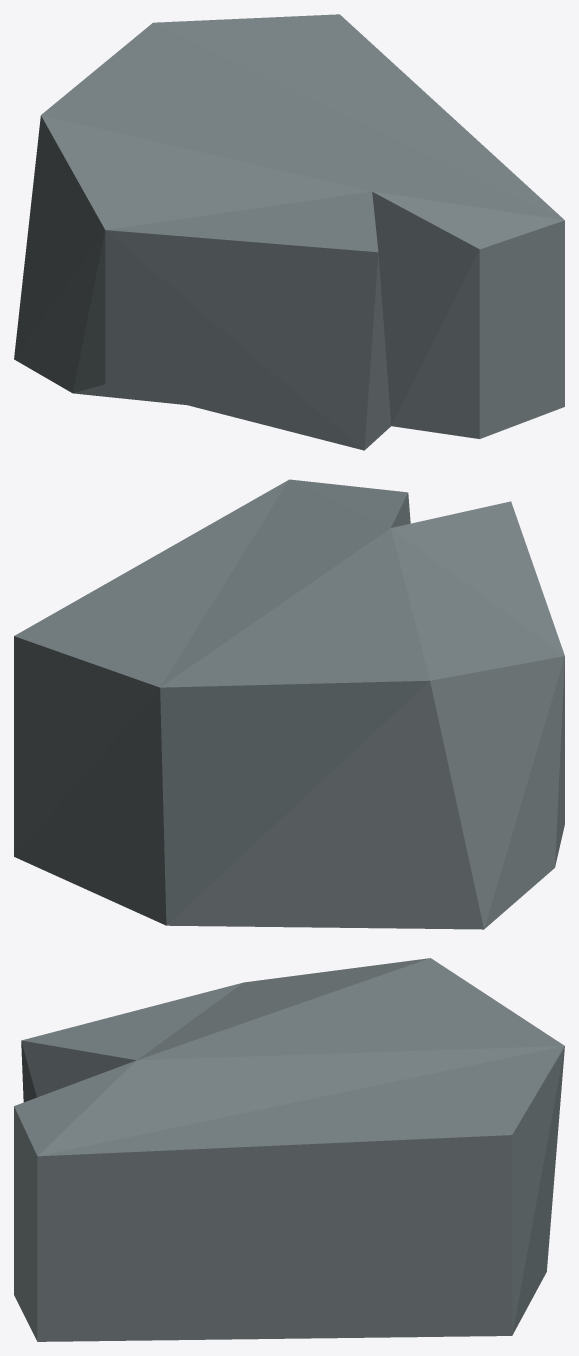
File: Rock_03.fbx
3 renders of one model, top to bottom at view 1: azimuth 30°, elevation 25°; view 2: azimuth 150°, elevation 25°; view 3: azimuth 270°, elevation 25°, orthographic. The views are drawn at different scales.
Visible parts, largest first — view 1: Rock_03; view 2: Rock_03; view 3: Rock_03.
Part boxes in pixels (box(x1,y1,x2,y2)): Rock_03: box(14, 14, 564, 450); Rock_03: box(14, 479, 564, 929); Rock_03: box(14, 958, 564, 1341).
Size of the model in its own units: 0.4193 by 0.2383 by 0.5278.
